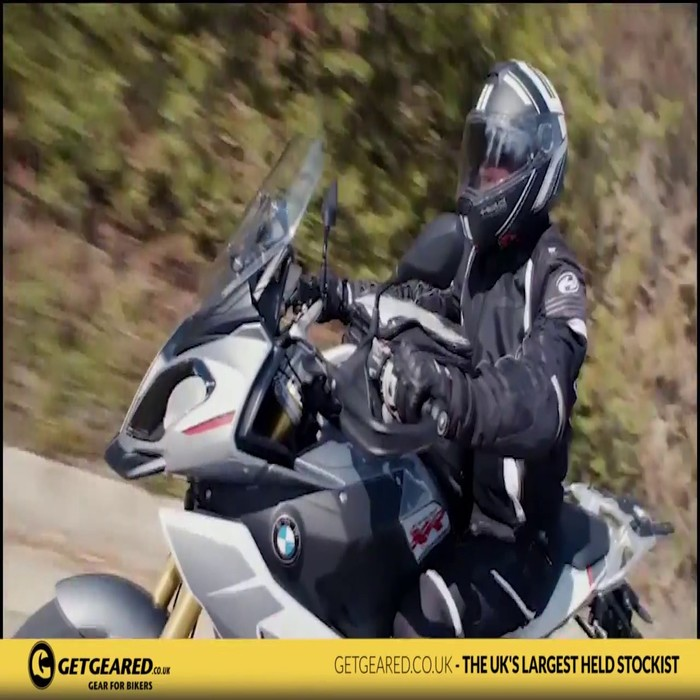h: (456, 57, 571, 250)
